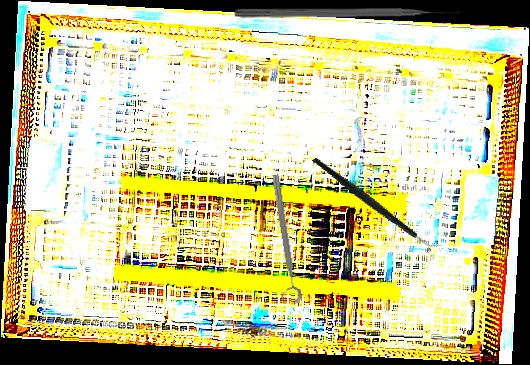Chopper: (312, 126, 442, 280)
Fixation Ring: (261, 173, 303, 306)
Pusher: (234, 8, 461, 20)
